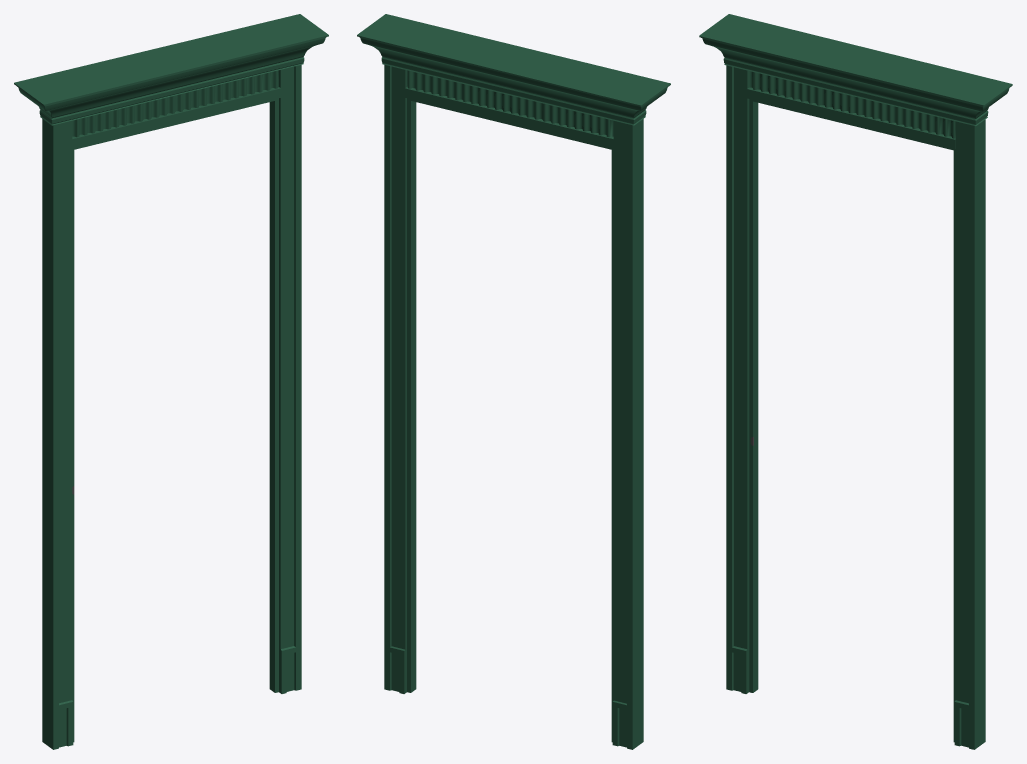
File: 7_OLIVIA_FRAME.glb
3 views of the same model, side by side, from view 1: azimuth 30°, elevation 25°; view 2: azimuth 150°, elevation 25°; view 3: azimuth 330°, elevation 25° (orthographic).
Parts seen in each view (by area): view 1: 7_OLIVIA_FRAME; view 2: 7_OLIVIA_FRAME; view 3: 7_OLIVIA_FRAME.
Boxes of the visible parts, left/top/right/bottom form: 7_OLIVIA_FRAME: left=14, top=14, right=328, bottom=749; 7_OLIVIA_FRAME: left=357, top=14, right=670, bottom=749; 7_OLIVIA_FRAME: left=699, top=14, right=1012, bottom=749.
Size of the model in its own units: 1.11 by 2.44 by 0.2031.
